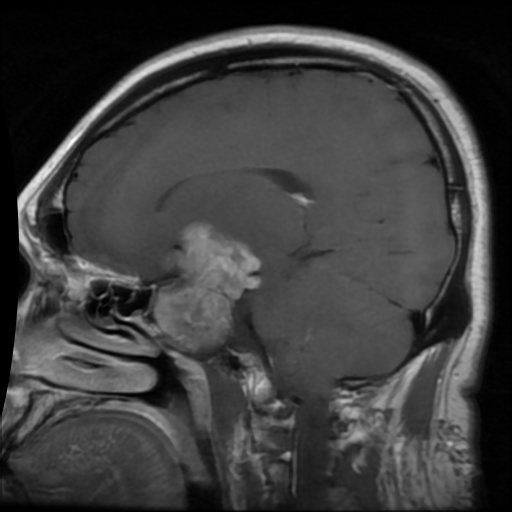pituitary: (156, 222, 260, 348)
